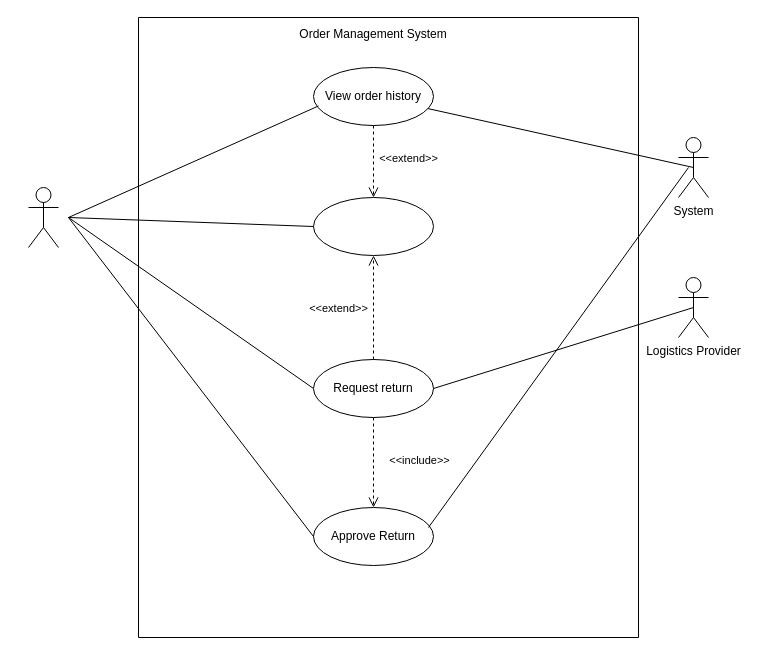
The diagram is 758 pixels wide and 655 high, and some of its shapes have lost their labels. The centre of each missing label's shape, as x and y in pixels:
Customer: [43,217]
Track Shipment: [373,226]
